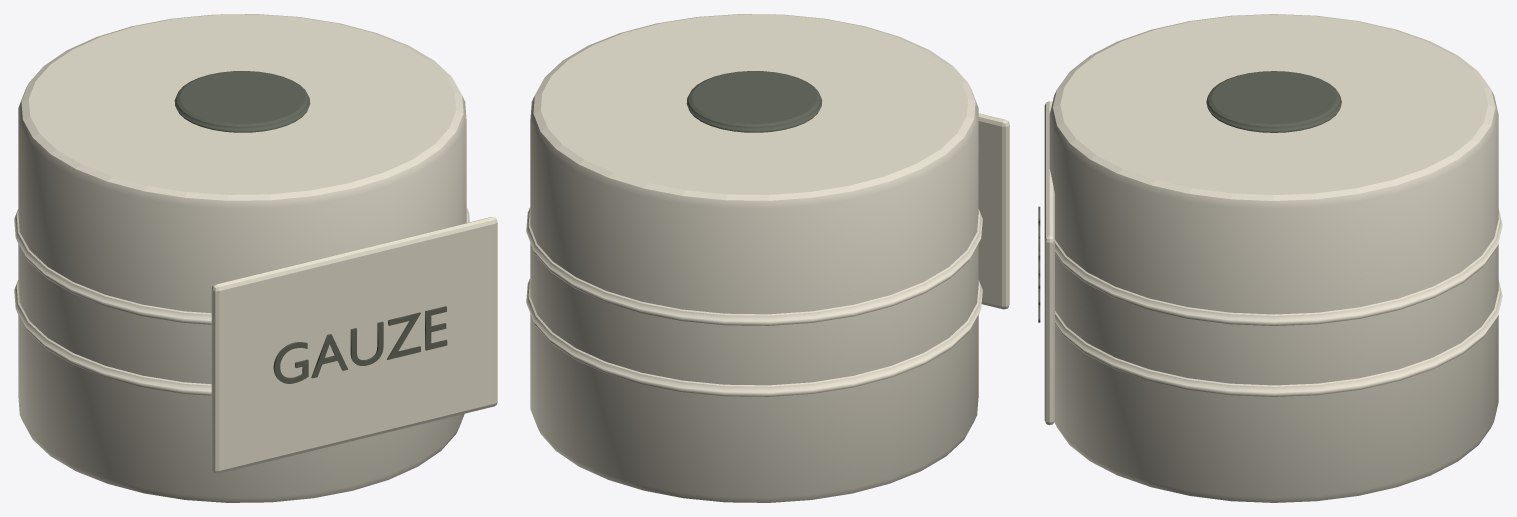
Rendered from prop_bandage.glb.
3 views of the same model, side by side, from view 1: azimuth 30°, elevation 25°; view 2: azimuth 150°, elevation 25°; view 3: azimuth 270°, elevation 25° (orthographic).
Parts seen in each view (by area): view 1: Cotton_roll, Paper_wrapper, Roll_end, Bandage_label, Fold.001, Fold; view 2: Cotton_roll, Roll_end, Paper_wrapper, Fold, Fold.001; view 3: Cotton_roll, Roll_end, Fold, Fold.001, Paper_wrapper.
Part boxes in pixels (x1,y1,x2,y2): Cotton_roll: (18,14,466,502); Paper_wrapper: (211,217,497,473); Roll_end: (174,71,310,132); Bandage_label: (273,306,447,383); Fold.001: (14,208,469,324); Fold: (14,280,211,395); Cotton_roll: (530,14,978,502); Roll_end: (686,71,822,132); Paper_wrapper: (978,113,1009,309); Fold: (526,278,982,396); Fold.001: (526,207,982,325); Cotton_roll: (1049,14,1498,502); Roll_end: (1206,71,1341,132); Fold: (1055,280,1502,396); Fold.001: (1055,209,1502,325); Paper_wrapper: (1044,101,1054,425).
Size of the model in its own units: 0.0876 by 0.0665 by 0.089.
